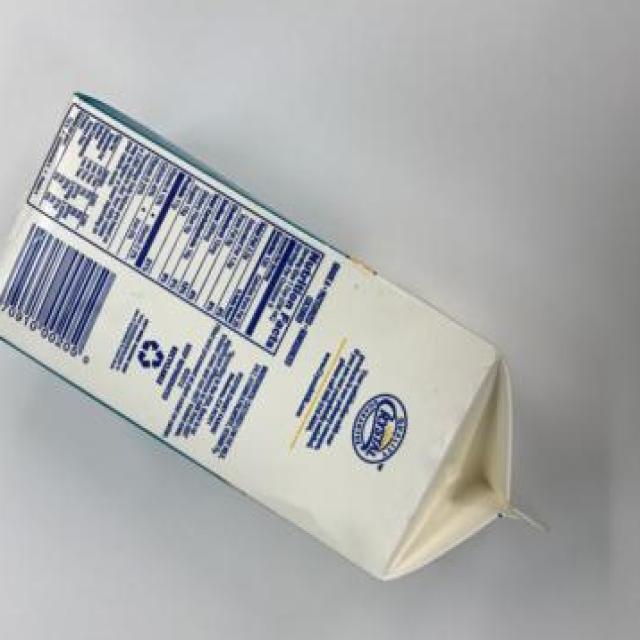organic: (8, 71, 590, 607)
